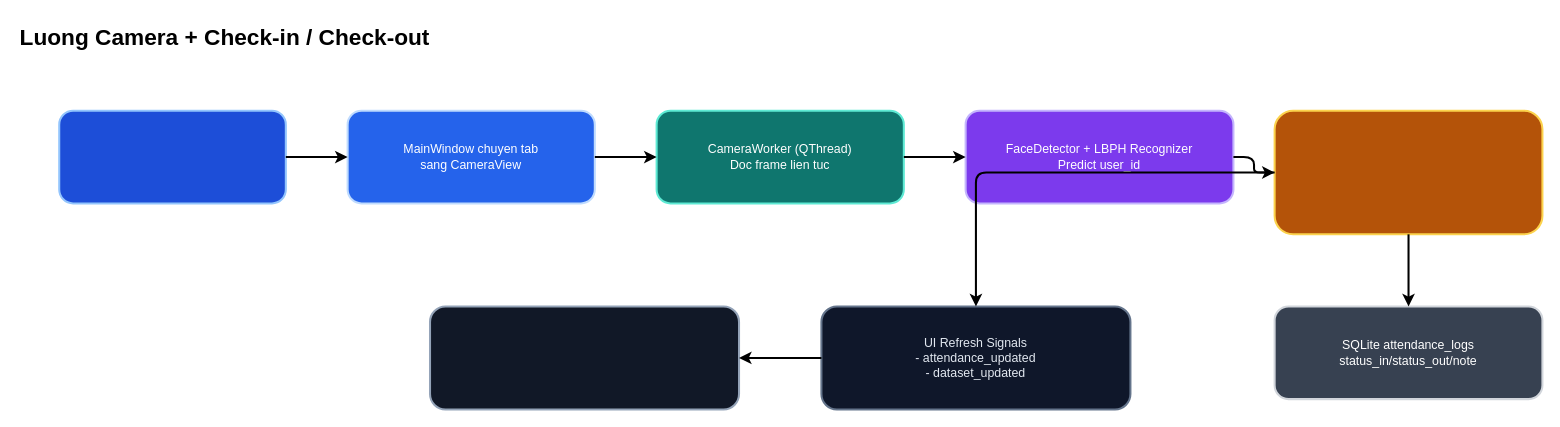
This 1560x427 diagram has some shape labels left out. Here are the shapes that lost their labels. From the top down, the box of each, then its label:
(58, 109, 286, 204): User bam nut Check-in / Check-out
(1273, 109, 1543, 235): AttendanceService check_in() / check_out() Shift: 08:00-17:00
(428, 305, 740, 410): Dashboard / Report / Employee duoc cap nhat realtime
